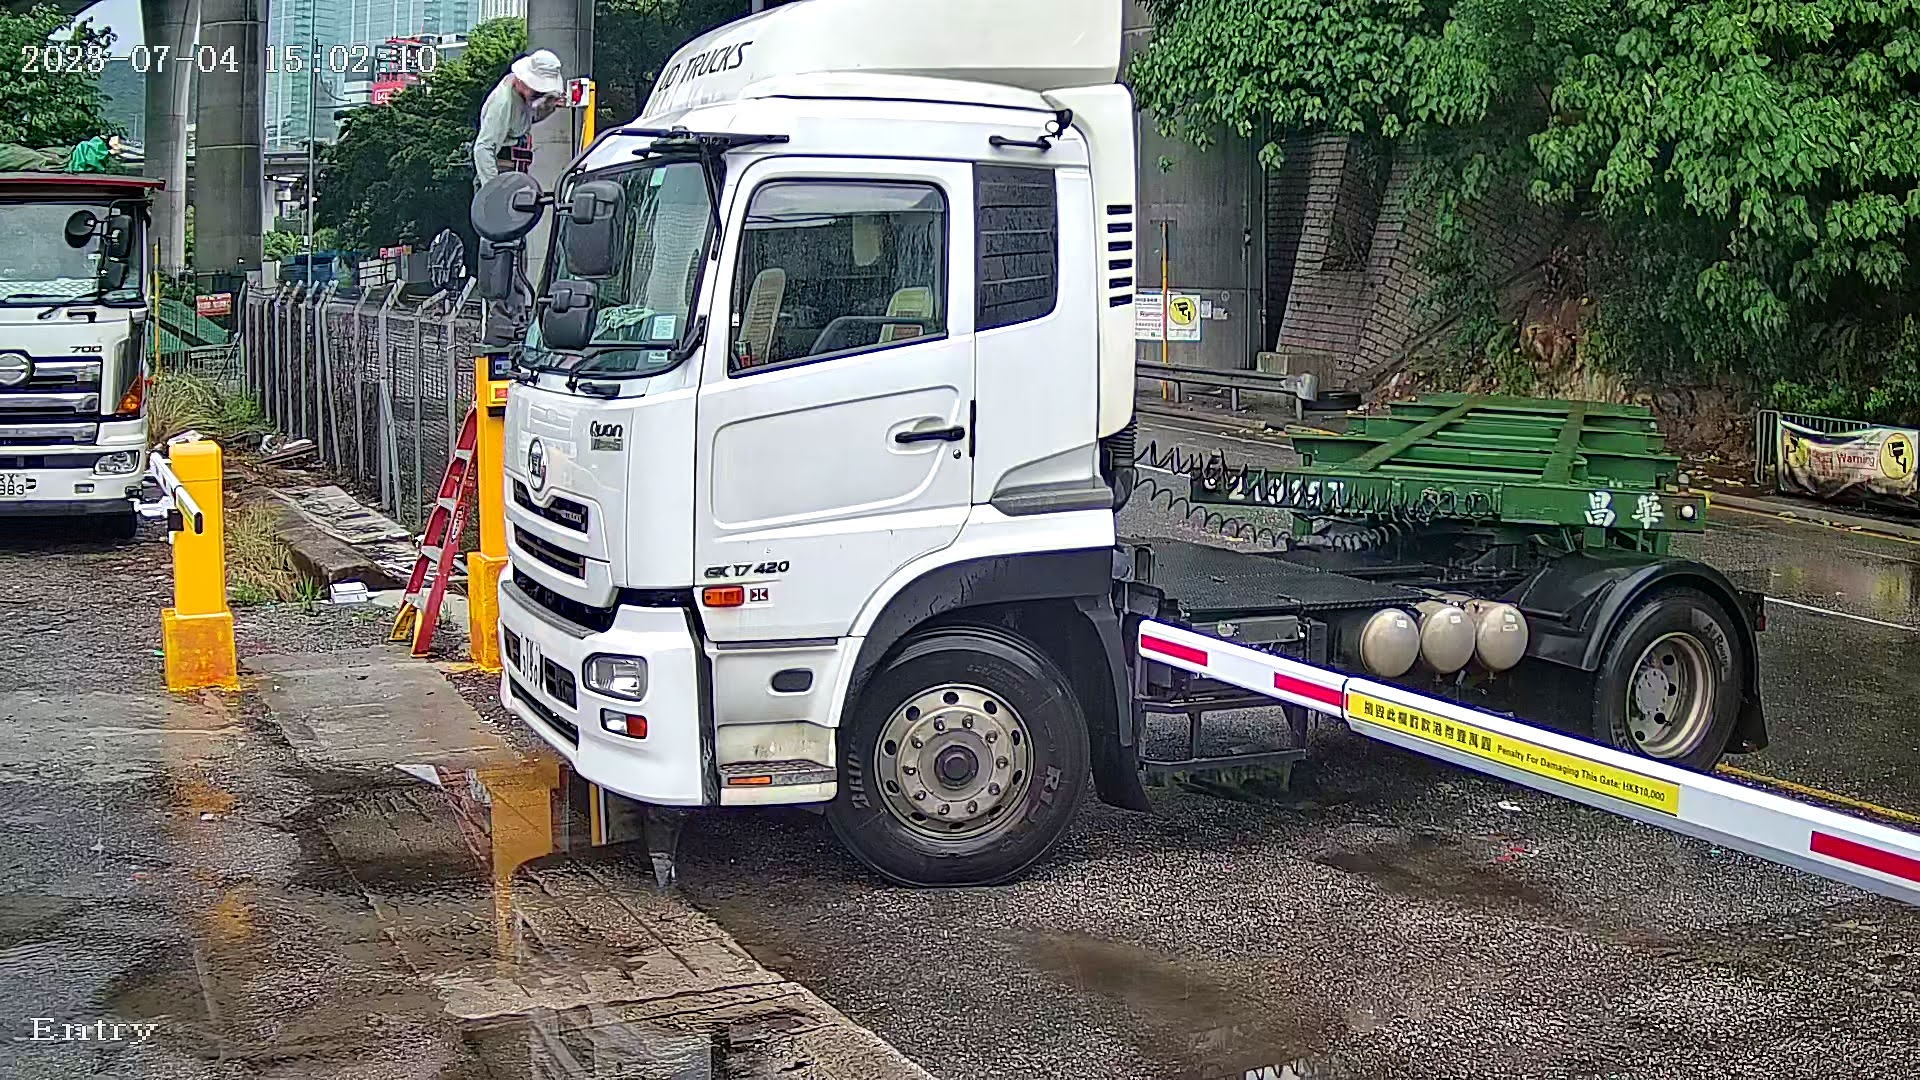truck: (458, 1, 1776, 913)
